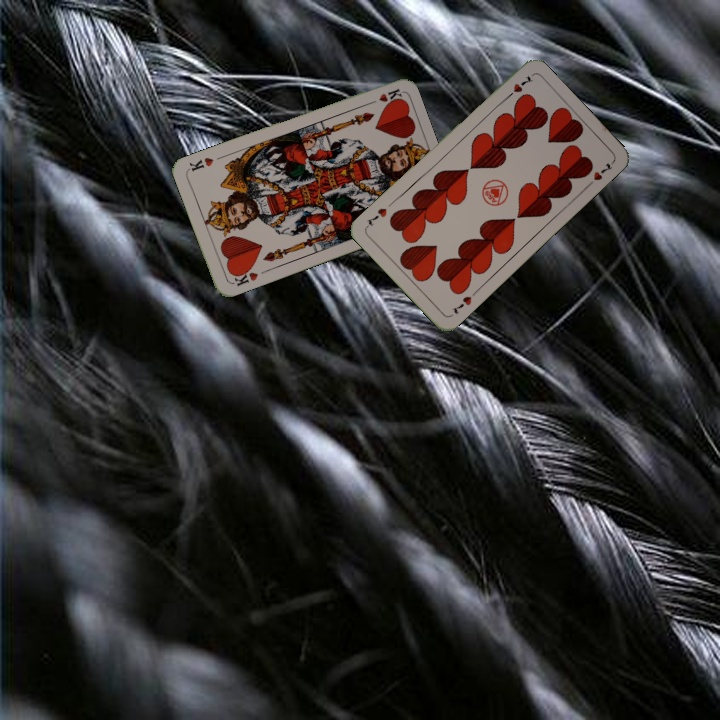H7: (501, 71, 535, 102), (447, 287, 480, 317)
HK: (363, 84, 404, 108), (228, 264, 261, 289)
